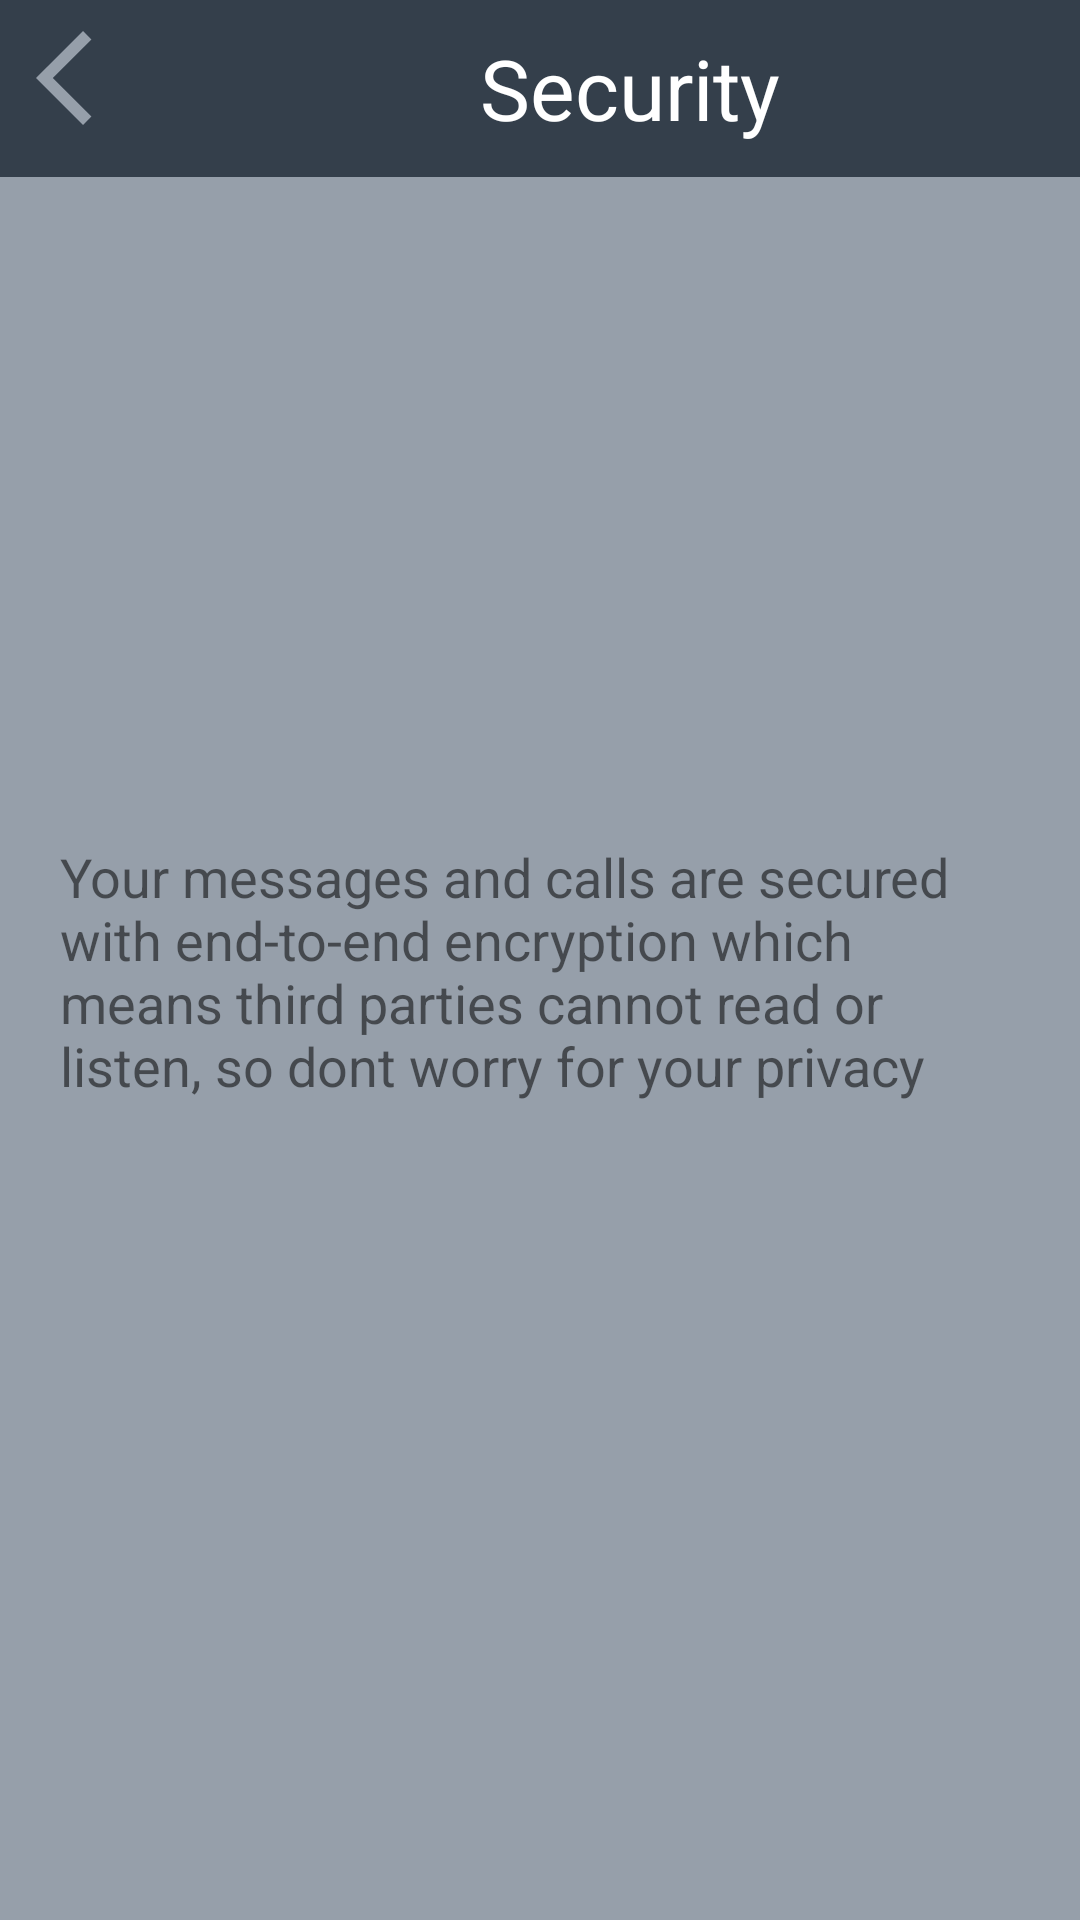

Named icons in this screenshot (1080px x 1920px) and their bounding boxes, bbox=[x1, y1, x2, y2]:
back arrow: bbox=[36, 31, 91, 125]
